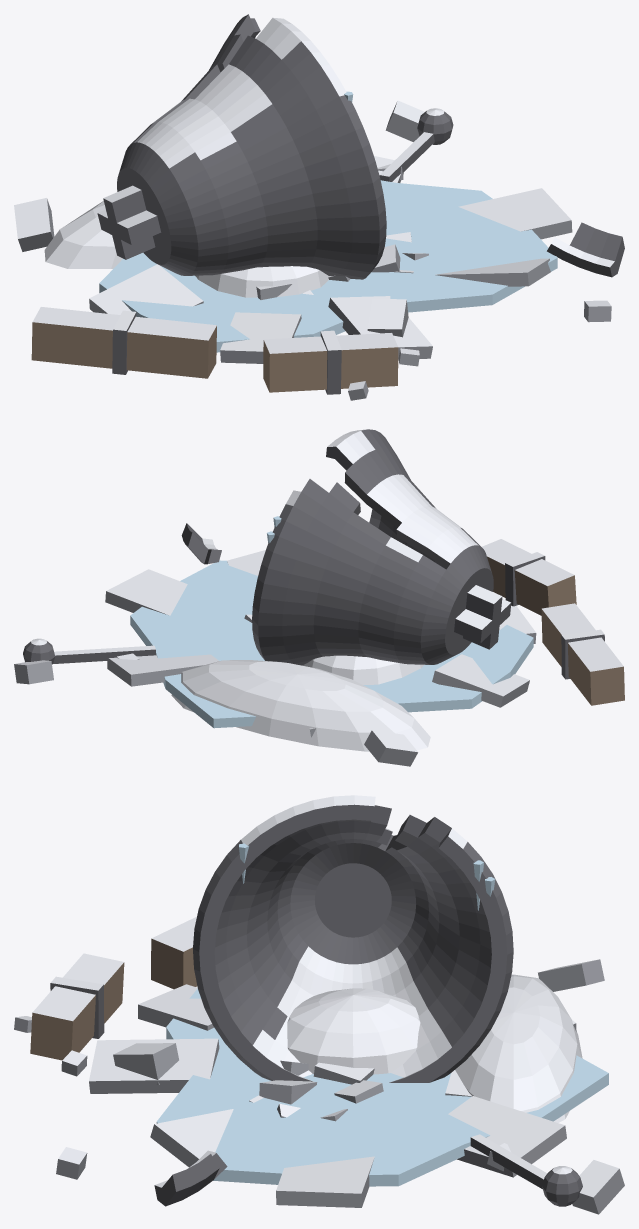
File: PR_Sino_Caido.fbx
3 views of the same model, one above another, from view 1: azimuth 30°, elevation 25°; view 2: azimuth 150°, elevation 25°; view 3: azimuth 270°, elevation 25° (orthographic). The views are drawn at different scales.
Parts seen in each view (by area): view 1: PR_Sino_Caido; view 2: PR_Sino_Caido; view 3: PR_Sino_Caido.
Part boxes in pixels (x1,y1,x2,y2): PR_Sino_Caido: (14, 14, 624, 400); PR_Sino_Caido: (14, 429, 624, 766); PR_Sino_Caido: (14, 795, 624, 1214).
Bounding box in the file's own units: 5.44 × 2.48 × 4.76.
